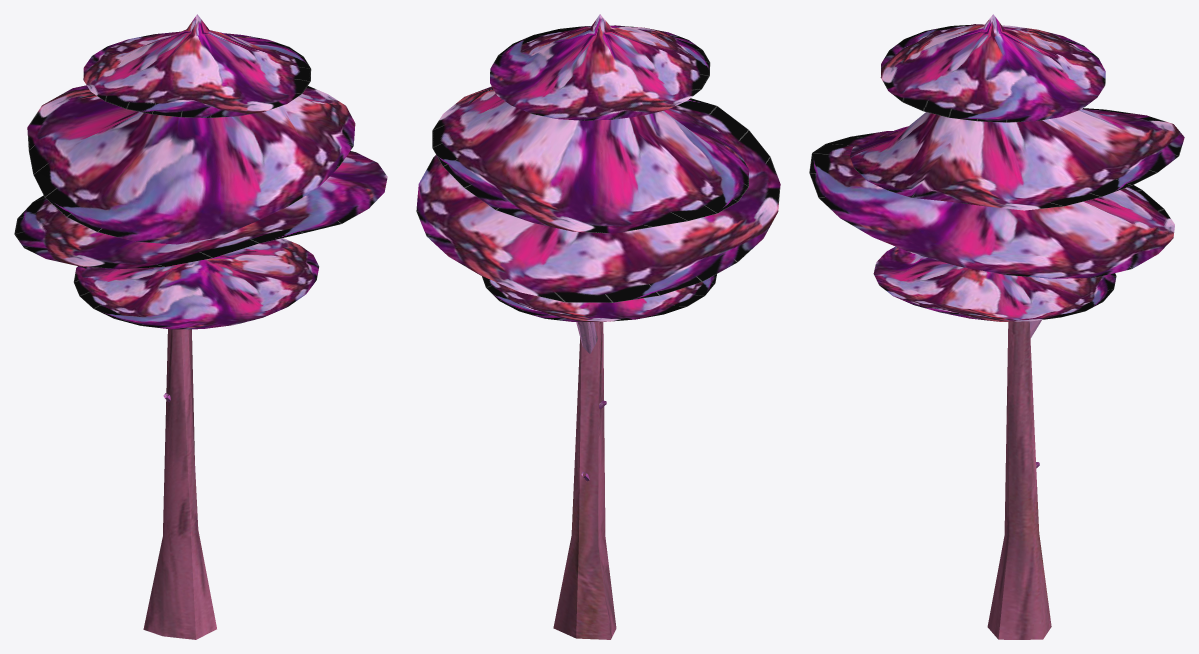
The model's file is arbre2v1.fbx.
The picture shows the model from 3 angles, left to right: view 1: azimuth 30°, elevation 25°; view 2: azimuth 150°, elevation 25°; view 3: azimuth 270°, elevation 25°; orthographic projection. The views are drawn at different scales.
Parts seen in each view (by area): view 1: arbre2v1; view 2: arbre2v1; view 3: arbre2v1.
Part boxes in pixels (x1,y1,x2,y2): arbre2v1: [14, 14, 387, 639]; arbre2v1: [416, 14, 780, 639]; arbre2v1: [809, 14, 1184, 639].
Size of the model in its own units: 12.5 by 22.84 by 12.62.
